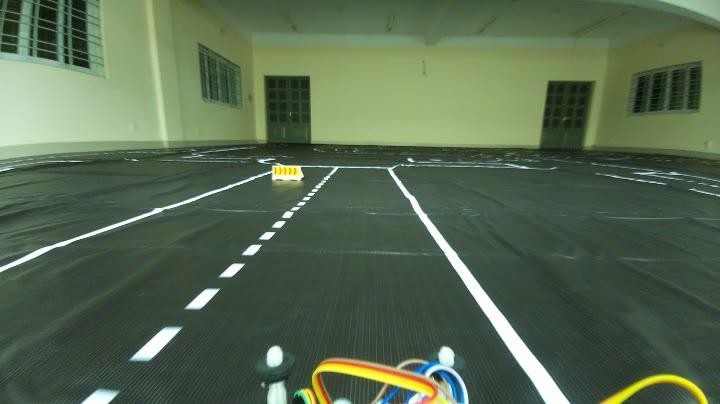roadblock: (268, 161, 312, 189)
